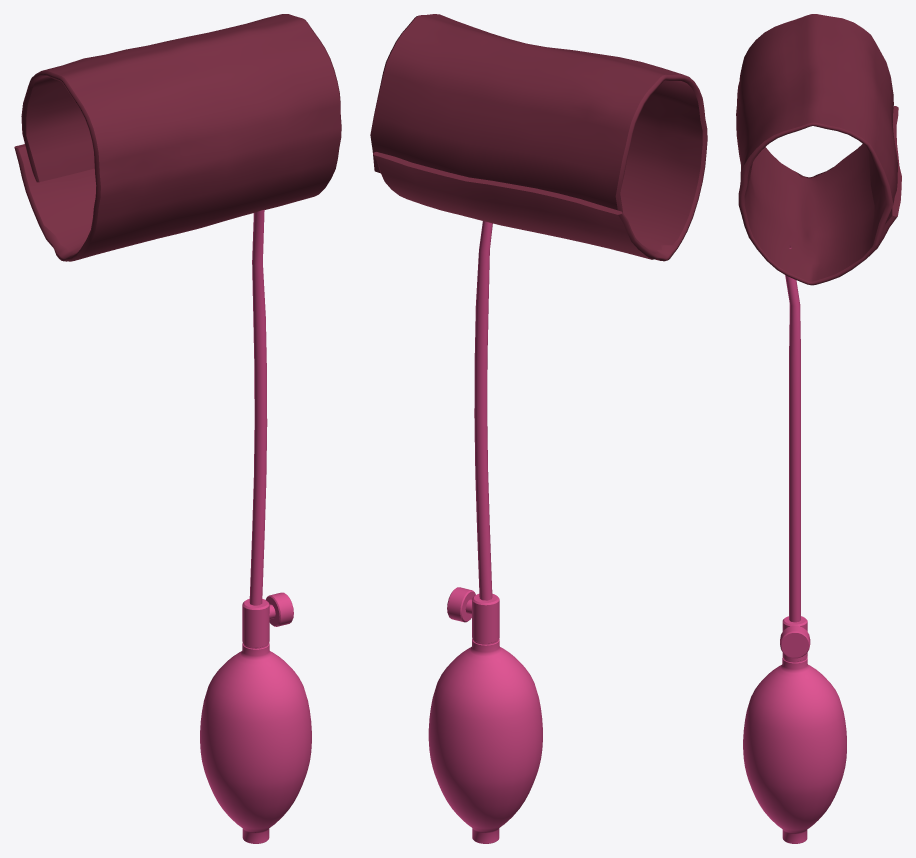
Rendered from blood pressure cuff 1.fbx.
The picture shows the model from 3 angles, left to right: view 1: azimuth 30°, elevation 25°; view 2: azimuth 150°, elevation 25°; view 3: azimuth 270°, elevation 25°; orthographic projection. The views are drawn at different scales.
Parts seen in each view (by area): view 1: blood_pressure.001, blood_pressure.000; view 2: blood_pressure.001, blood_pressure.000; view 3: blood_pressure.001, blood_pressure.000.
Boxes of the visible parts, box(x1,y1,x2,y2) form: blood_pressure.001: box(14, 14, 341, 261); blood_pressure.000: box(200, 209, 311, 843); blood_pressure.001: box(370, 14, 707, 261); blood_pressure.000: box(428, 221, 542, 843); blood_pressure.001: box(736, 14, 901, 285); blood_pressure.000: box(743, 245, 846, 843).
Size of the model in its own units: 11.42 by 34.37 by 6.95.
